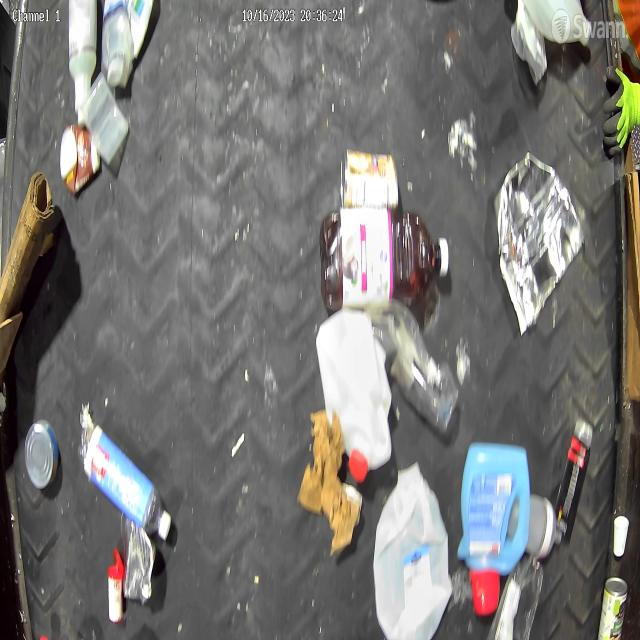can: (488, 153, 584, 331), (115, 504, 164, 616), (333, 145, 403, 219), (20, 402, 65, 500), (597, 573, 635, 640)
milk_jug: (312, 298, 395, 482), (374, 464, 454, 640)
non_white_jug: (457, 436, 534, 616)
plastic_bottle: (77, 415, 176, 547)
